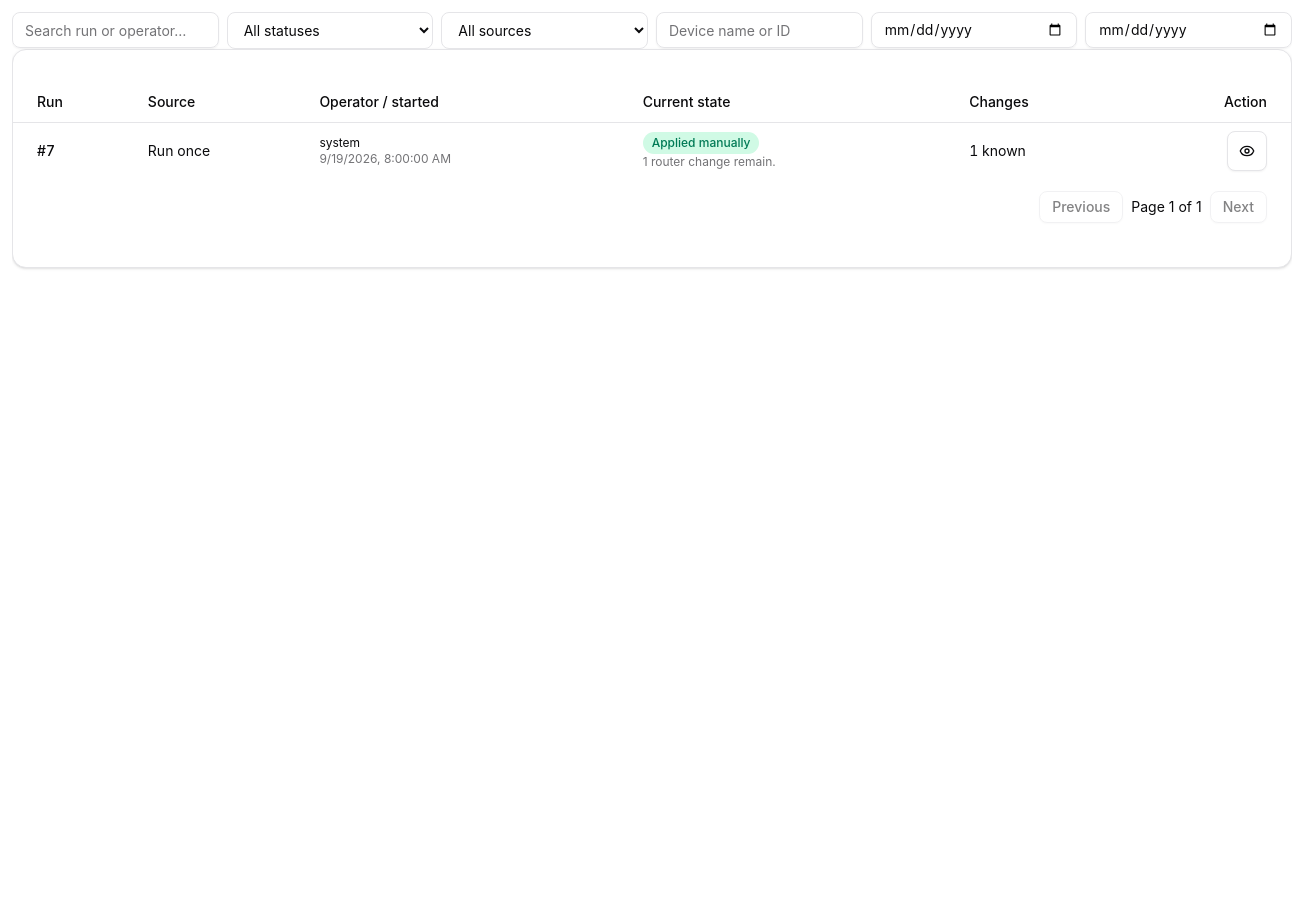
Test: refreshes an open run after it leaves the active list
Click the button named "Review run 7": (1247,150) [1227,130,1267,170]
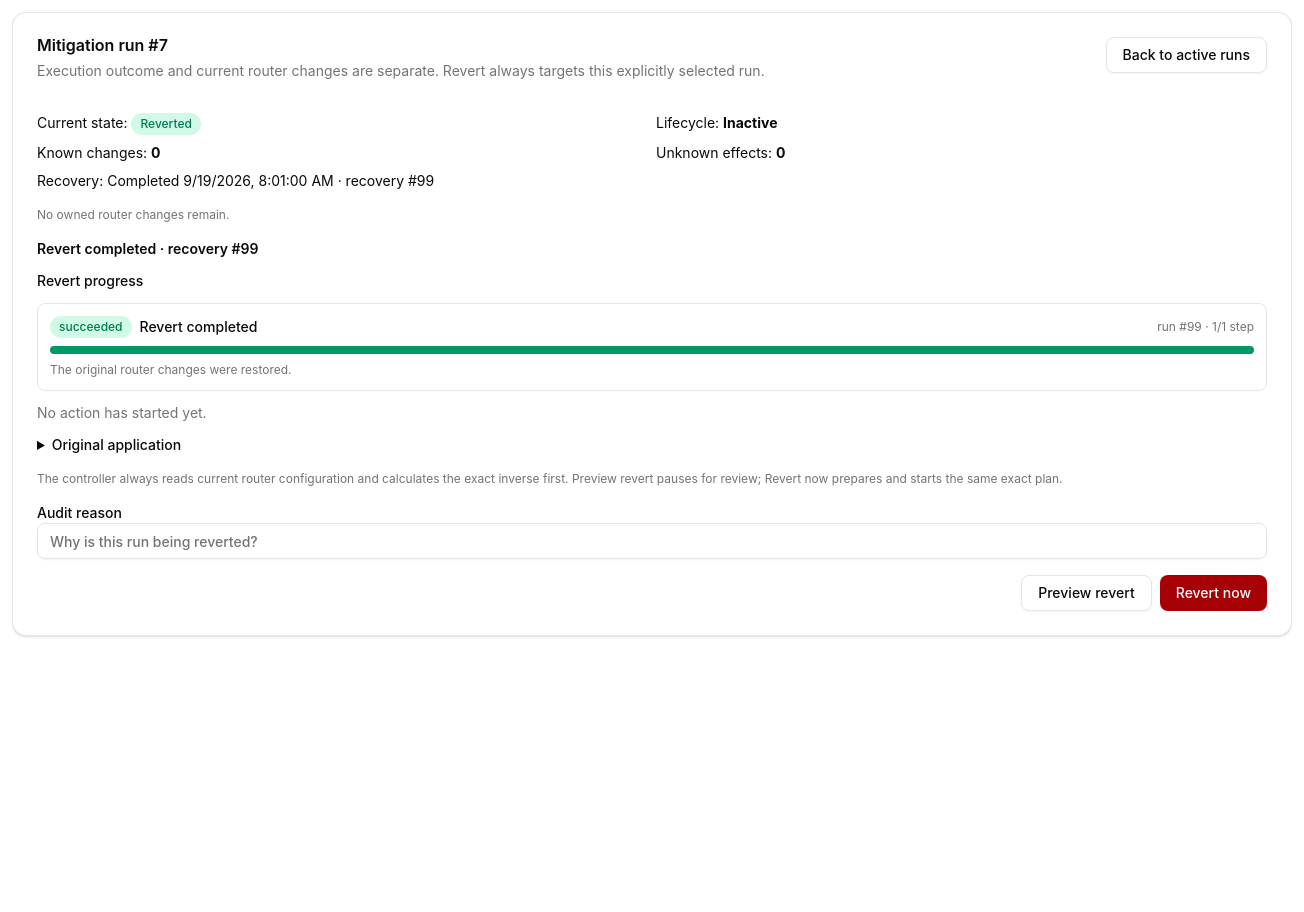
Result: the text "Reverted" is shown at [132,113,201,135]
